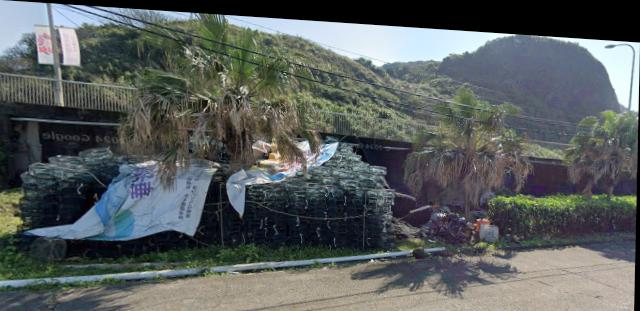pollute: (209, 132, 399, 247), (475, 210, 501, 236)
